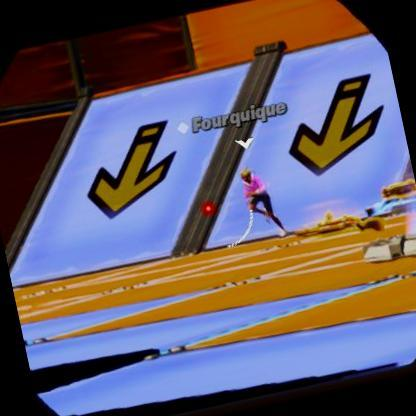person: (244, 165, 286, 246)
